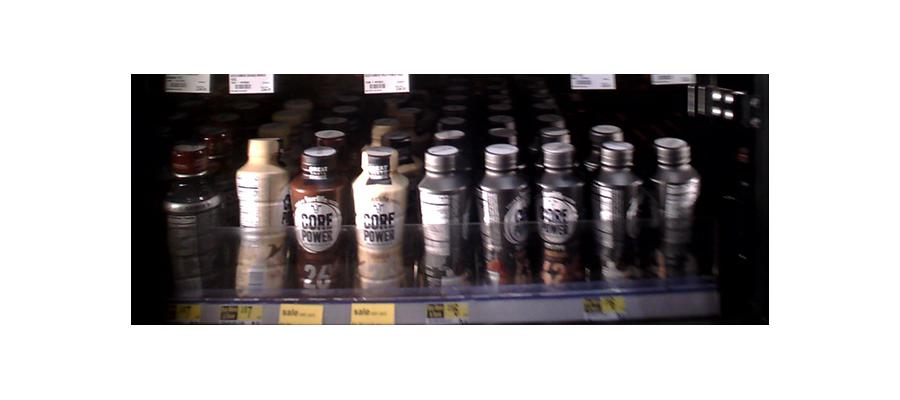bottle: (161, 148, 230, 305), (352, 140, 411, 295), (233, 136, 289, 299), (289, 143, 346, 298), (418, 143, 473, 293), (480, 142, 532, 290), (595, 138, 642, 293), (538, 141, 585, 292), (649, 133, 695, 283)
